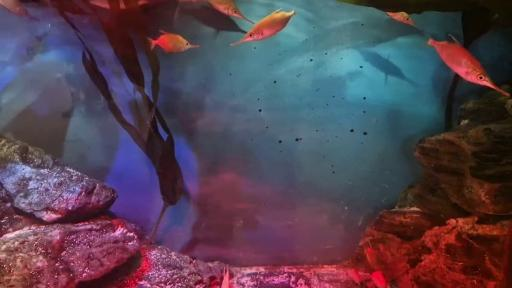Fish: (428, 35, 510, 96), (231, 8, 295, 46), (356, 49, 418, 86), (179, 6, 246, 34), (148, 31, 199, 53), (207, 0, 254, 23), (0, 0, 38, 20), (500, 222, 511, 287), (386, 12, 417, 27), (365, 247, 379, 270), (371, 271, 387, 287), (221, 268, 232, 287), (351, 269, 361, 286), (137, 0, 161, 5)
